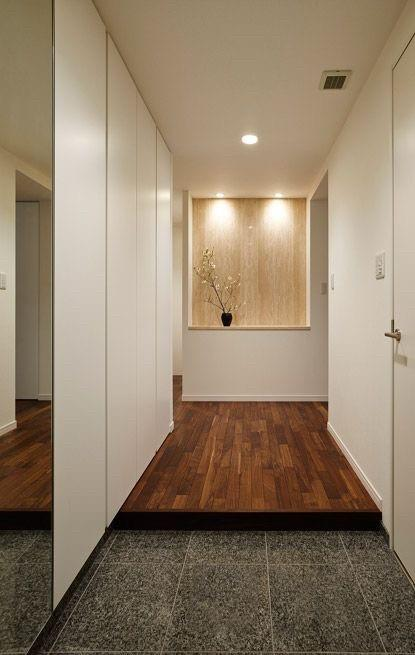floor: (35, 529, 414, 654)
safe: (118, 375, 381, 512)
